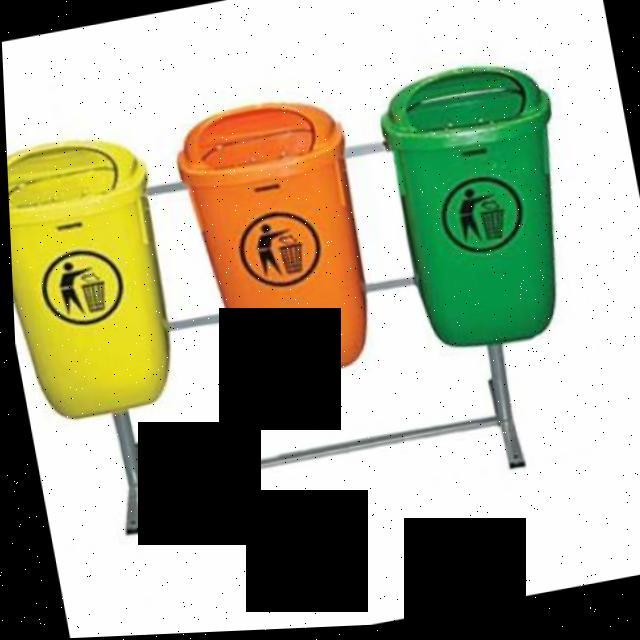bin: (330, 8, 614, 400), (140, 67, 394, 413), (4, 111, 192, 441)
